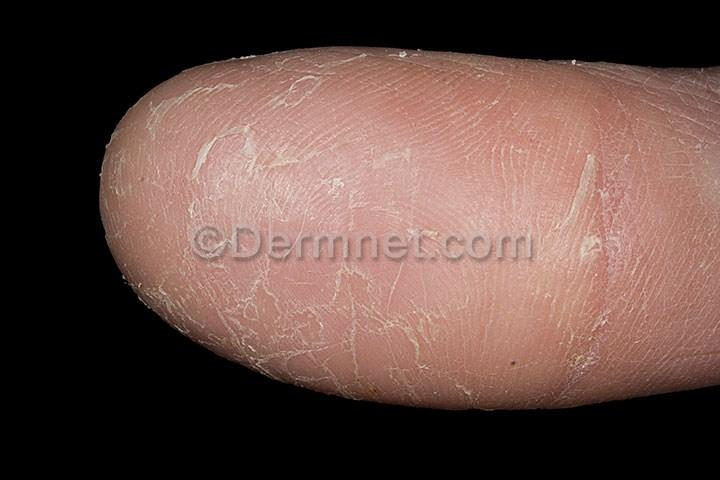Eczema: (334, 55, 538, 262), (558, 71, 720, 303), (162, 73, 327, 253), (306, 265, 473, 420), (475, 277, 636, 406), (175, 255, 300, 345)
